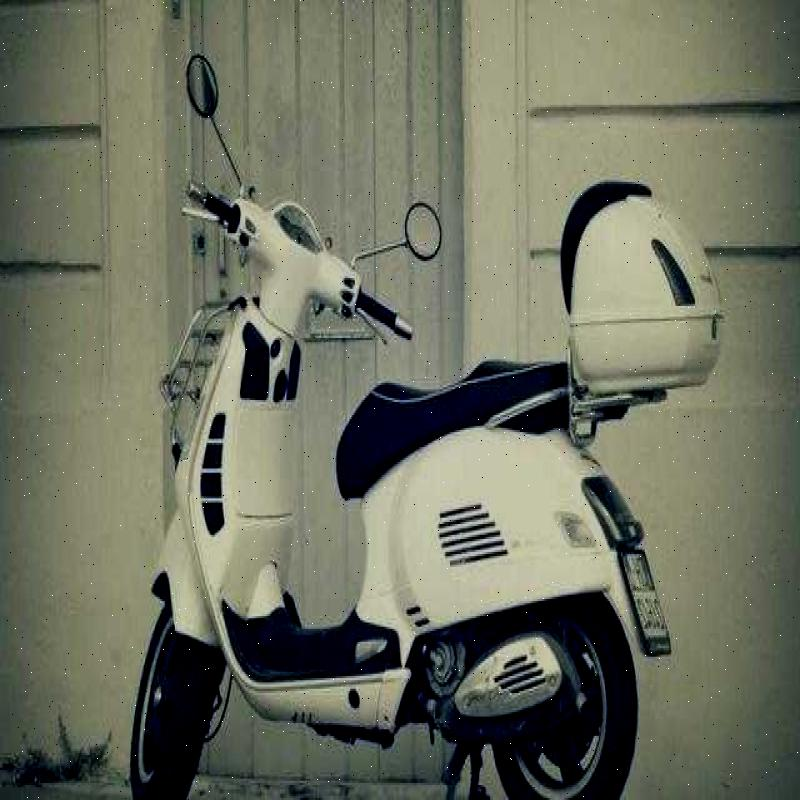bike: (78, 37, 750, 778)
